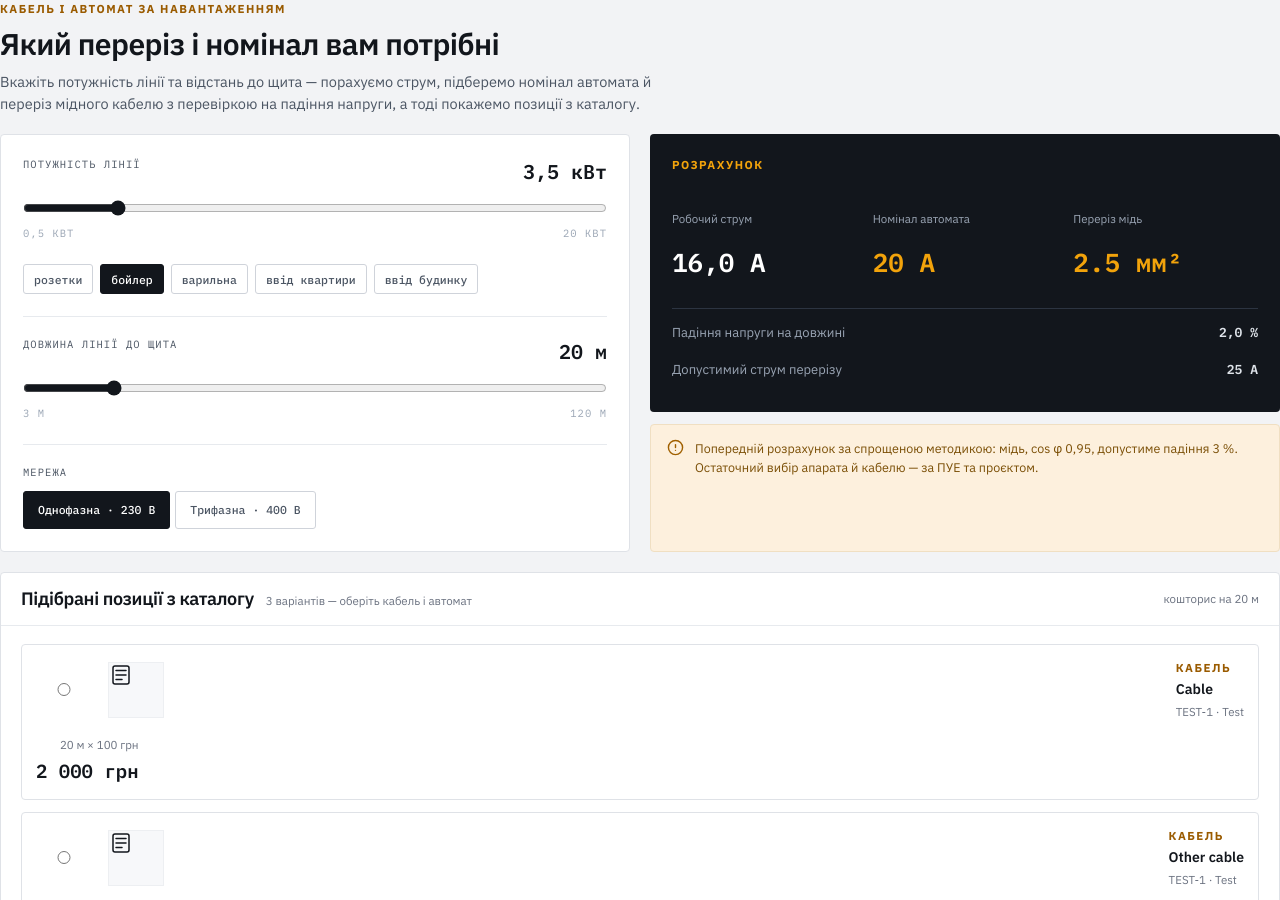
debounces slider changes into one combined request
The width and height of the screenshot is (1280, 900).
Check: the radio button named "Обрати Cable" is shown, box [36,683,92,696]
Set the slider labelled "Потужність лінії" to "4": (133, 208) [23,200,607,216]
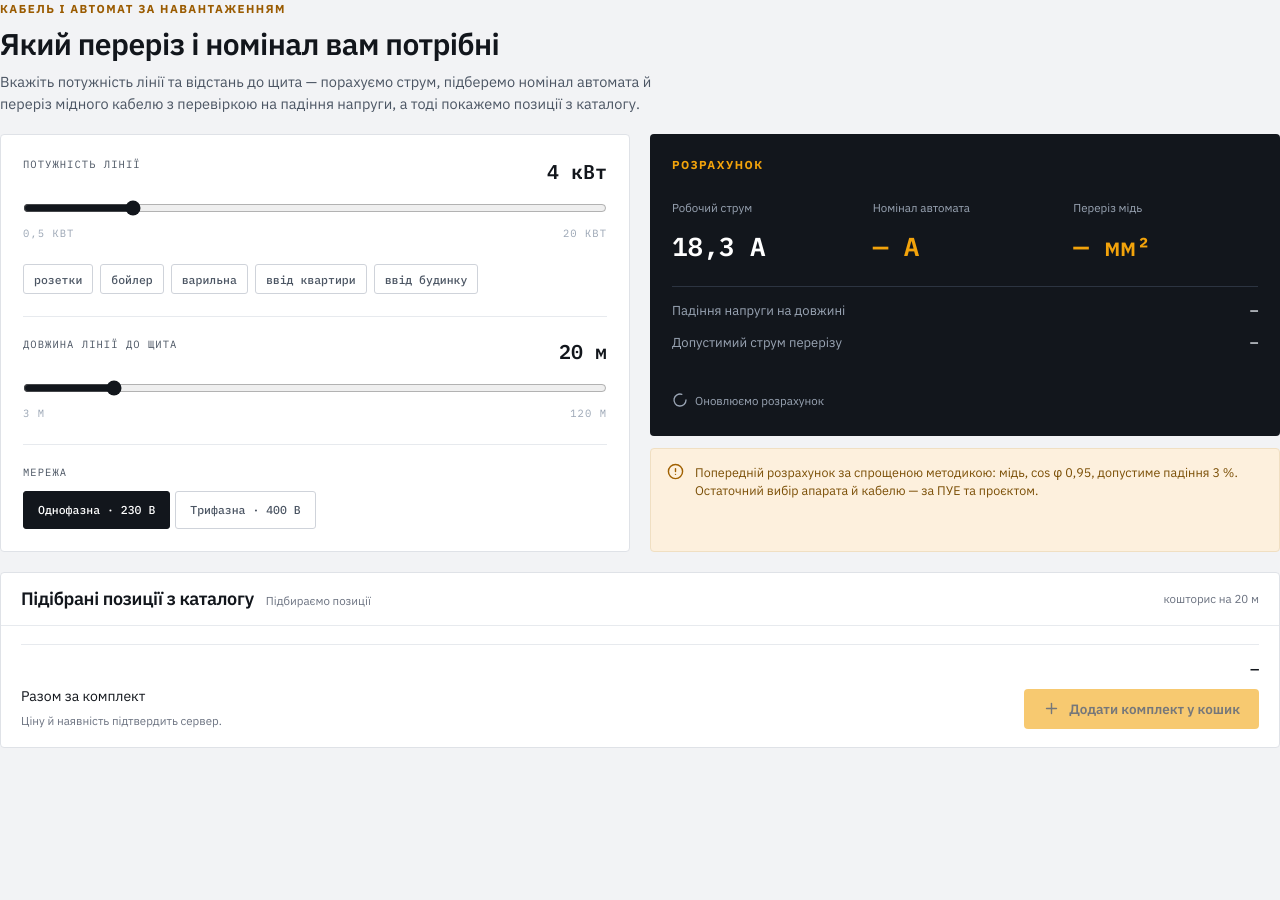
Set the slider labelled "Потужність лінії" to "4.5": (148, 208) [23,200,607,216]
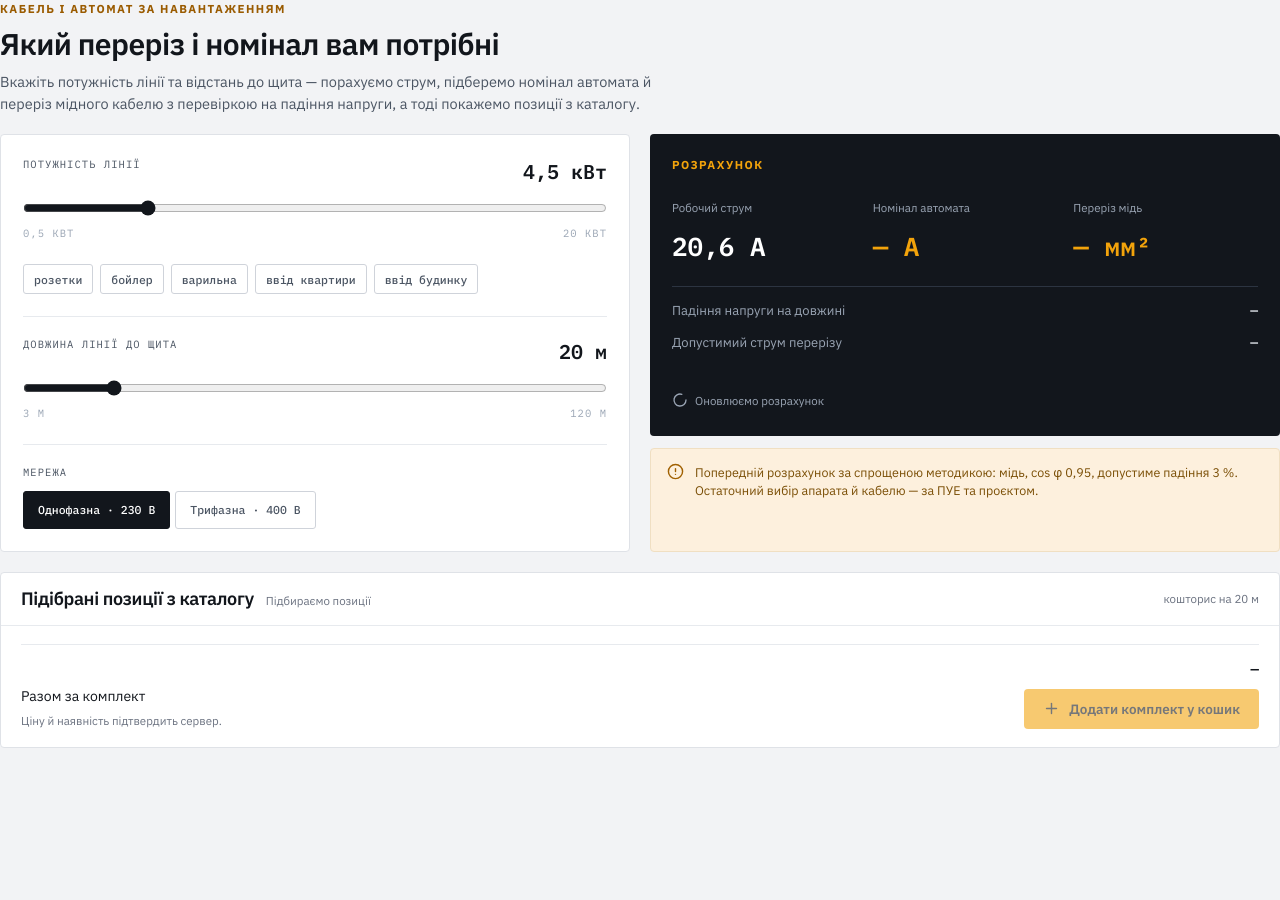
Set the slider labelled "Потужність лінії" to "5": (162, 208) [23,200,607,216]
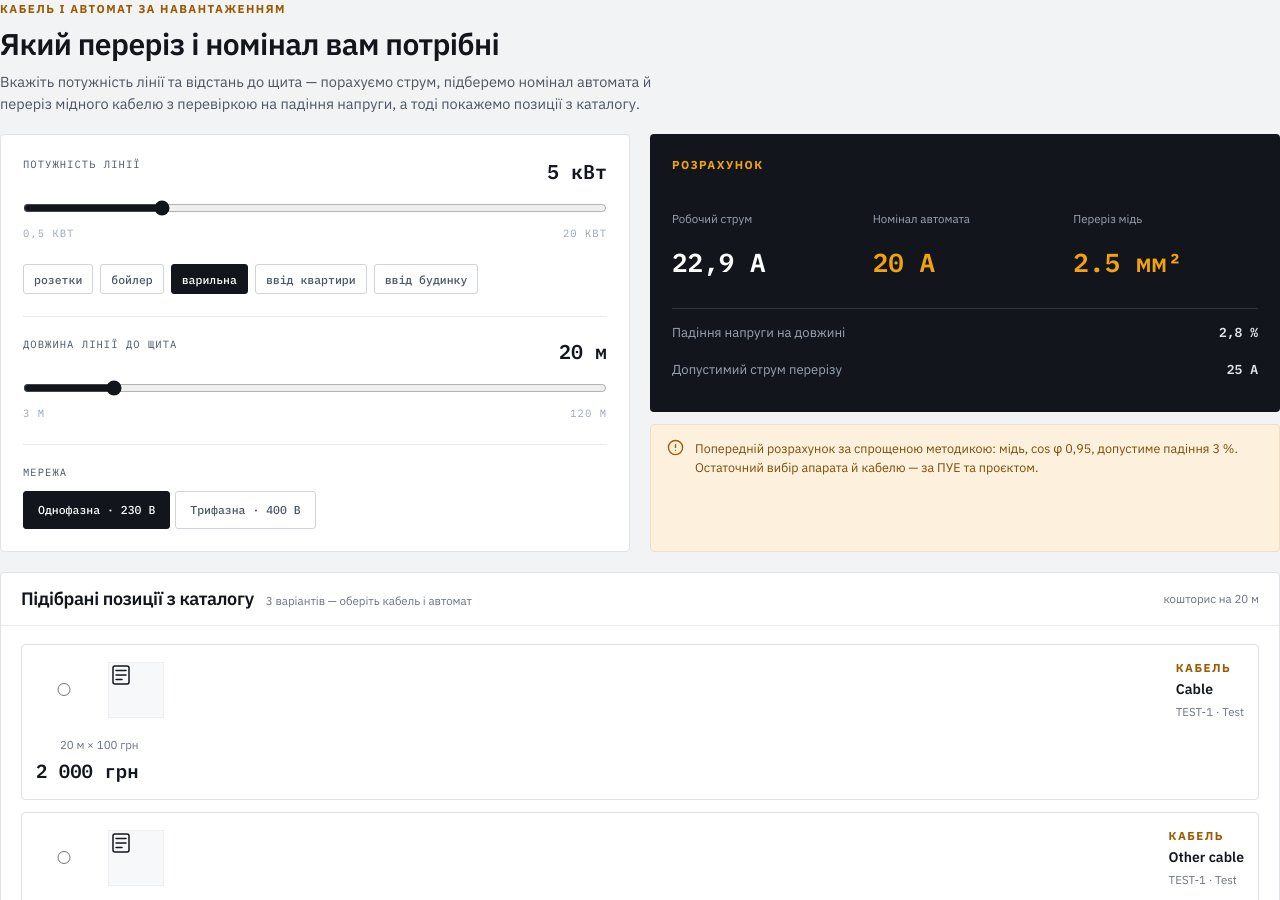
Check: the radio button named "Обрати Cable" is shown, box [36,683,92,696]
